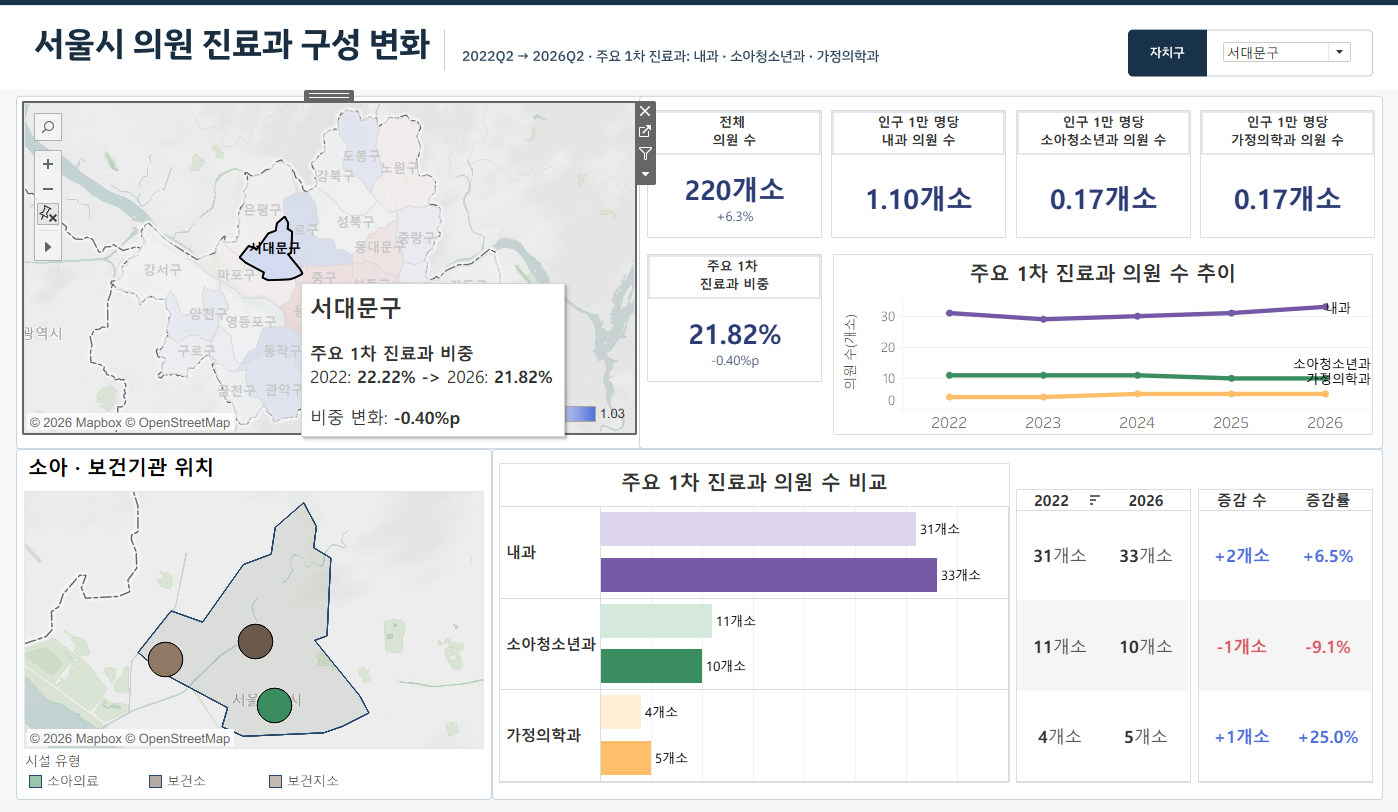

This screenshot's page, from the dashboard's own definition file:
{"tool":"tableau","page":{"name":"대시보드 1","canvas":[1400,800],"ordinal":0},"visuals":[{"type":"image","param":"Image/Group 8.png","box":[0,0,1400,800]},{"type":"image","param":"Image/Group 6.png","box":[0,2,1400,800]},{"type":"title","box":[8,8,1384,56]},{"type":"parameter","param":"[Parameters].[매개 변수 1591853061382167]","box":[1220,41,134,38]},{"type":"worksheet","title":"주요 1차 진료과 비중 지도","mark":"Multipolygon","box":[24,105,611,330]},{"type":"worksheet","title":"전체 의원 수","mark":"Automatic","box":[647,112,175,128]},{"type":"worksheet","title":"1만 명당 내과 의원 수","mark":"Automatic","box":[831,112,175,128]},{"type":"worksheet","title":"1만 명당 소아청소년과 의원 수","mark":"Automatic","box":[1016,112,175,128]},{"type":"worksheet","title":"1만 명당 가정의학과 의원 수","mark":"Automatic","box":[1200,112,175,128]},{"type":"worksheet","title":"시트 20","mark":"Text","box":[677,118,330,144]},{"type":"worksheet","title":"반원차트","mark":"Pie","rows":["Calculation_1591853033824265","Calculation_1591853033824265"],"box":[1023,118,330,144]},{"type":"worksheet","title":"주요 1차 진료과 비중","mark":"Automatic","box":[647,256,175,128]},{"type":"worksheet","title":"연도별그거","mark":"Line","rows":["기관수"],"cols":["분기"],"box":[833,256,540,181]},{"type":"worksheet","title":"내과 의원 수","mark":"Automatic","box":[677,278,220,140]},{"type":"worksheet","title":"가정의학과 의원 수","mark":"Automatic","box":[906,278,220,140]},{"type":"worksheet","title":"소아청소년과 의원 수","mark":"Automatic","box":[1137,278,220,140]},{"type":"legend","title":"주요 1차 진료과 비중 지도","param":"[federated.1tq6ljp0kz92c210znshm1sgp3ex].[sum:변화(%P)1(복사본)_1827150007468047:qk]","box":[461,388,169,38]},{"type":"worksheet","title":"병원지도","mark":"Multipolygon","rows":["위도","위도"],"cols":["경도","경도"],"box":[24,451,460,300]},{"type":"worksheet","title":"증감률","mark":"Bar","rows":["Calculation_1591853027643396"],"cols":["표시과목"],"box":[24,457,872,315]},{"type":"worksheet","title":"필수과증감 (2)","mark":"Bar","rows":["시군구 (서울자치구 핵심과비중.Csv)"],"cols":["Calculation_1827149934944260"],"box":[918,459,442,314]},{"type":"worksheet","title":"22vs 26","mark":"Automatic","rows":["표시과목","분기"],"cols":["기관수"],"box":[499,465,511,320]},{"type":"worksheet","title":"선택과 주요 1차 진료과 변화","mark":"Text","rows":["표시과목"],"box":[1016,491,175,294]},{"type":"worksheet","title":"선택과 주요 1차 진료과 변화 (2)","mark":"Text","rows":["표시과목"],"box":[1198,491,175,294]},{"type":"legend","title":"연도별그거","param":"[federated.1tq6ljp0kz92c210znshm1sgp3ex].[none:표시과목:nk]","box":[1049,690,137,78]}]}

Visuals, with their boxes in screenshot pixels (x1, y1, x2, y2), scaled from the page's 1400x800 canvas onto the 1398x812 screenshot:
image: [0, 0, 1397, 811]
image: [0, 2, 1397, 811]
title: [8, 8, 1390, 65]
parameter: [1218, 42, 1352, 80]
"주요 1차 진료과 비중 지도" worksheet (Multipolygon marks): [24, 107, 634, 442]
"전체 의원 수" worksheet: [646, 114, 821, 244]
"1만 명당 내과 의원 수" worksheet: [830, 114, 1005, 244]
"1만 명당 소아청소년과 의원 수" worksheet: [1015, 114, 1189, 244]
"1만 명당 가정의학과 의원 수" worksheet: [1198, 114, 1373, 244]
"시트 20" worksheet (Text marks): [676, 120, 1006, 266]
"반원차트" worksheet (Pie marks): [1022, 120, 1351, 266]
"주요 1차 진료과 비중" worksheet: [646, 260, 821, 390]
"연도별그거" worksheet (Line marks): [832, 260, 1371, 444]
"내과 의원 수" worksheet: [676, 282, 896, 424]
"가정의학과 의원 수" worksheet: [905, 282, 1124, 424]
"소아청소년과 의원 수" worksheet: [1135, 282, 1355, 424]
"주요 1차 진료과 비중 지도" legend: [460, 394, 629, 432]
"병원지도" worksheet (Multipolygon marks): [24, 458, 483, 762]
"증감률" worksheet (Bar marks): [24, 464, 895, 784]
"필수과증감 (2)" worksheet (Bar marks): [917, 466, 1358, 785]
"22vs 26" worksheet: [498, 472, 1009, 797]
"선택과 주요 1차 진료과 변화" worksheet (Text marks): [1015, 498, 1189, 797]
"선택과 주요 1차 진료과 변화 (2)" worksheet (Text marks): [1196, 498, 1371, 797]
"연도별그거" legend: [1048, 700, 1184, 780]
